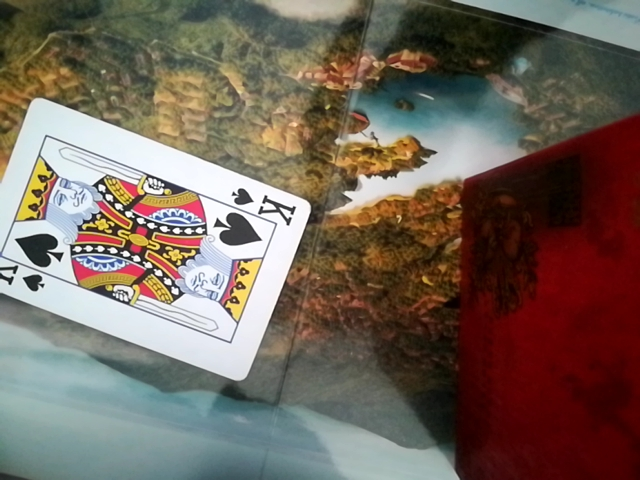ht k: (0, 90, 319, 385)
